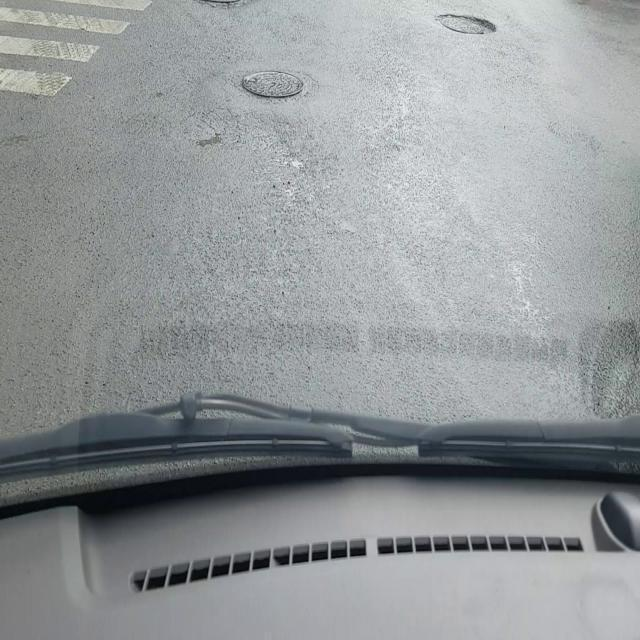pothole: (433, 10, 501, 37)
